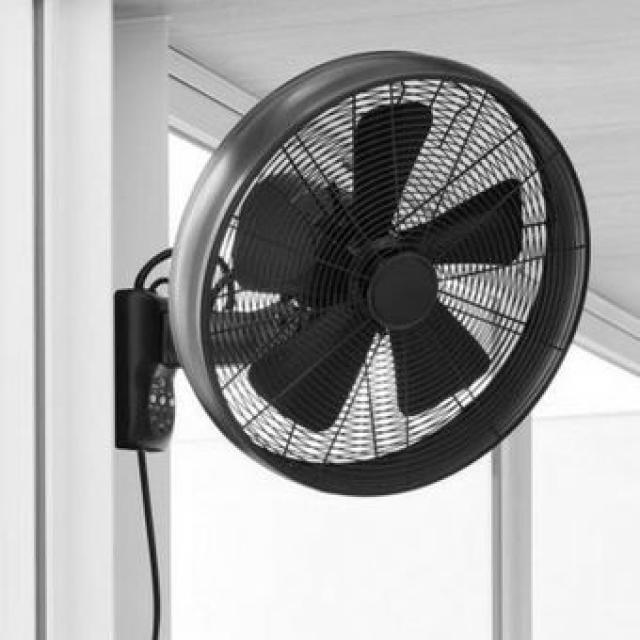fan: (162, 36, 598, 491)
